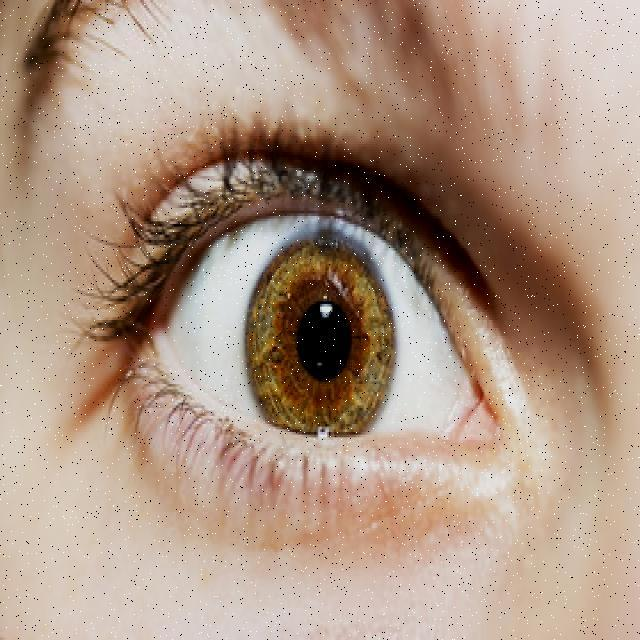Normal: (61, 83, 594, 562)
